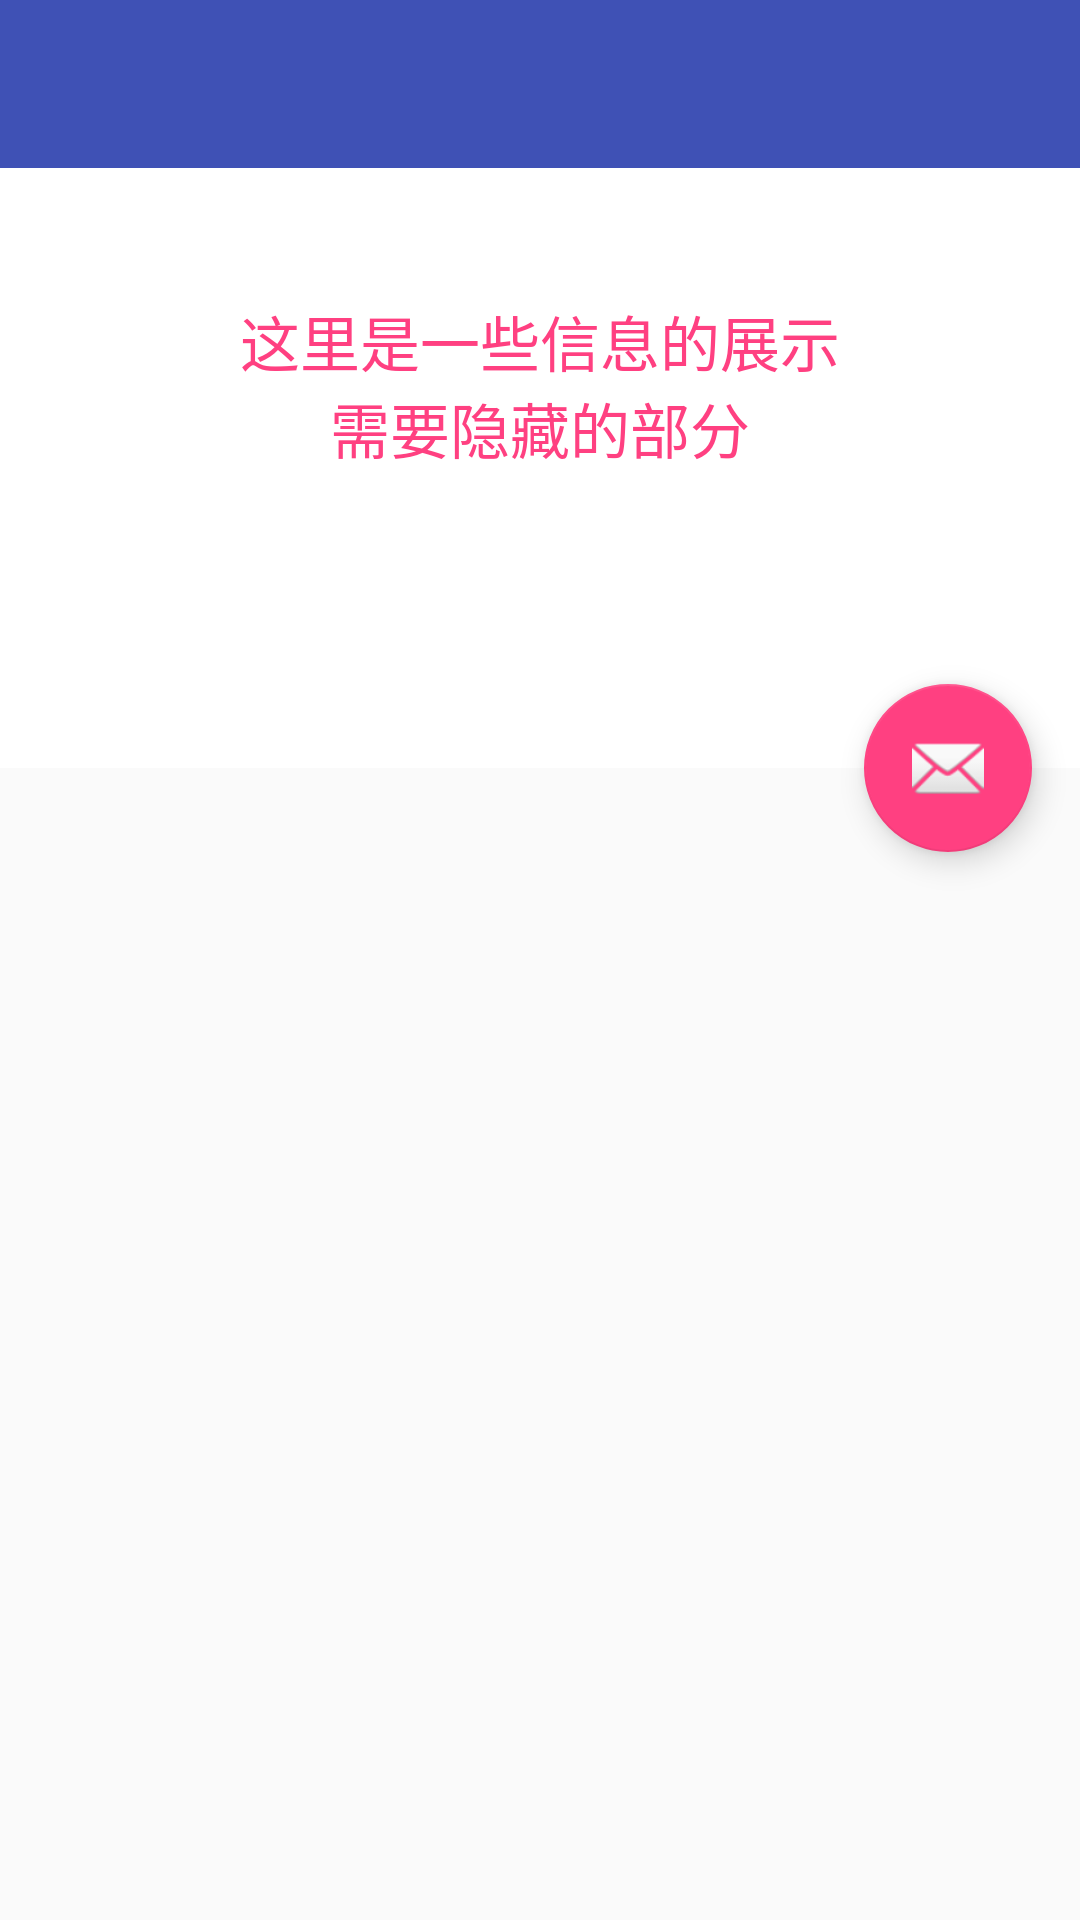

Icons on this 1080x1920 Android screen, each with the point to tap as (x,y):
email: (948,768)
